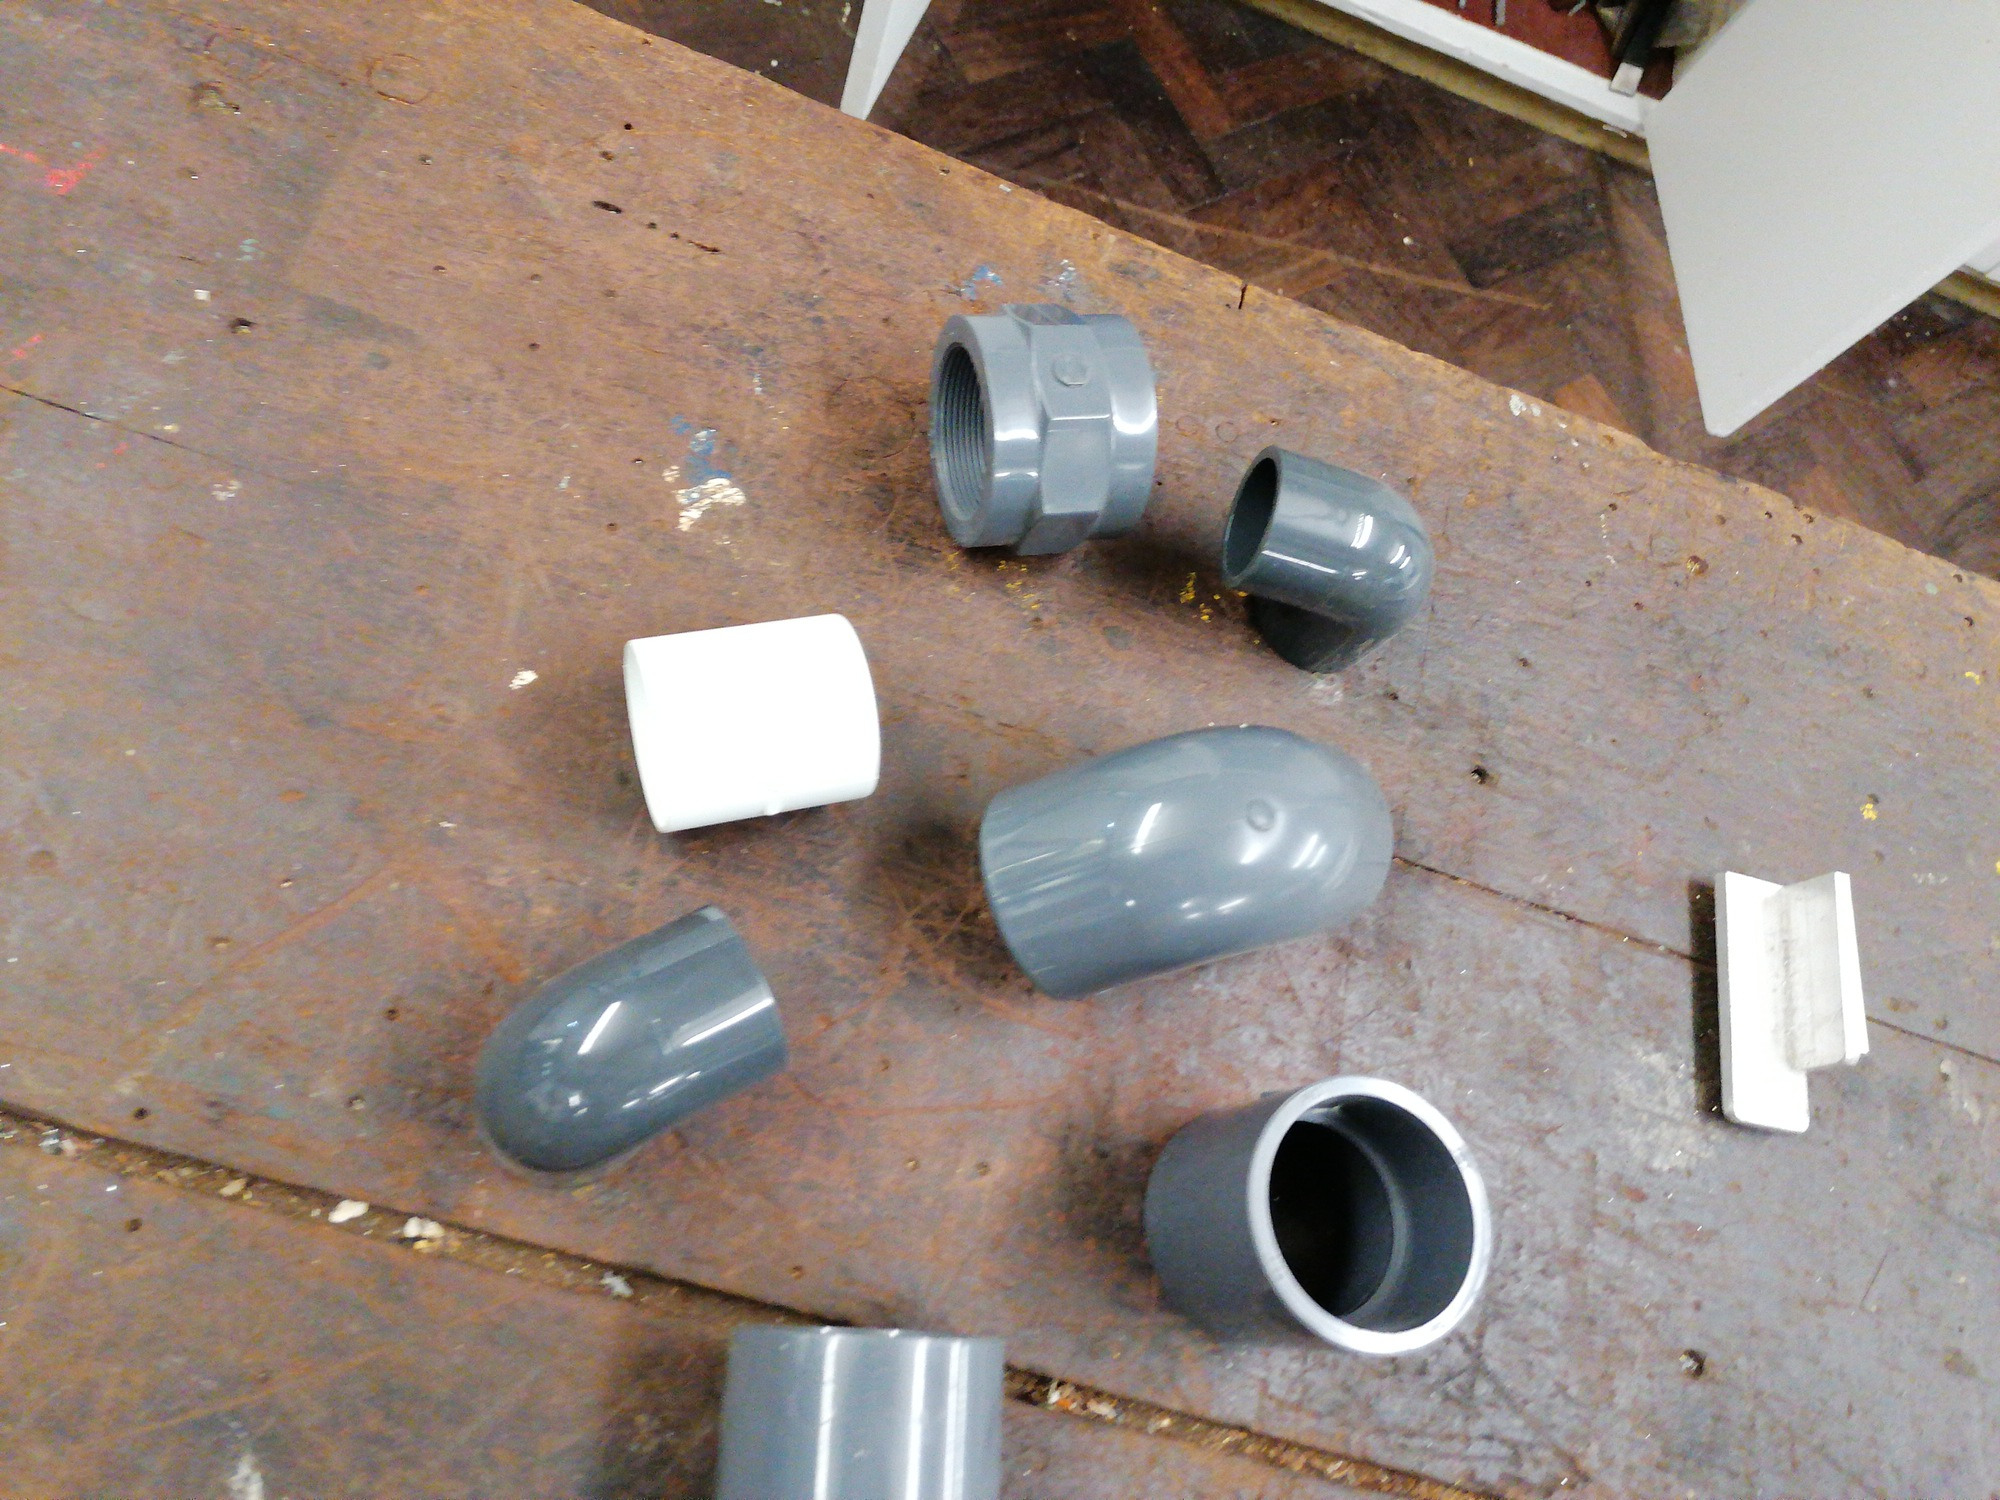nut: (921, 295, 1161, 570)
pipe: (976, 701, 1392, 1002), (1139, 1071, 1498, 1360), (468, 906, 794, 1175), (622, 611, 883, 837), (707, 1320, 1011, 1498), (1216, 443, 1439, 678)
